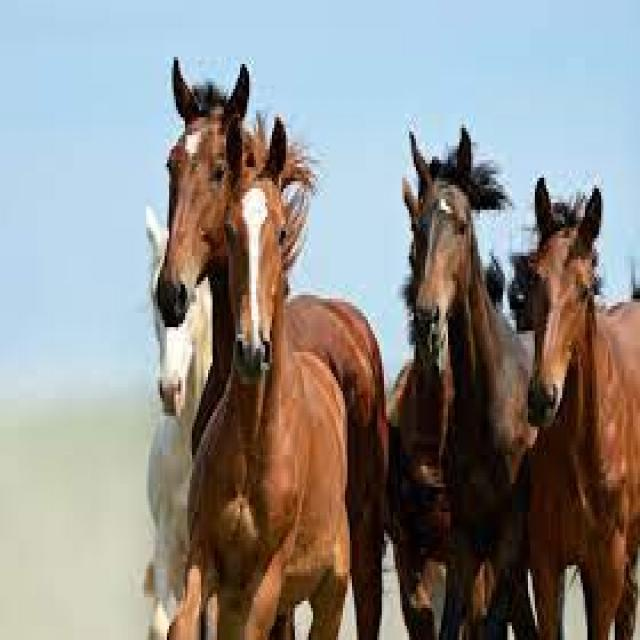horse: (194, 121, 354, 640), (403, 117, 538, 640), (529, 172, 640, 640), (158, 43, 247, 429)
